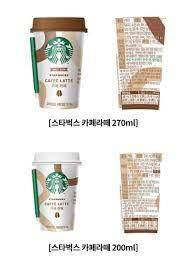starbucks_cafelatte: (23, 13, 86, 114)
